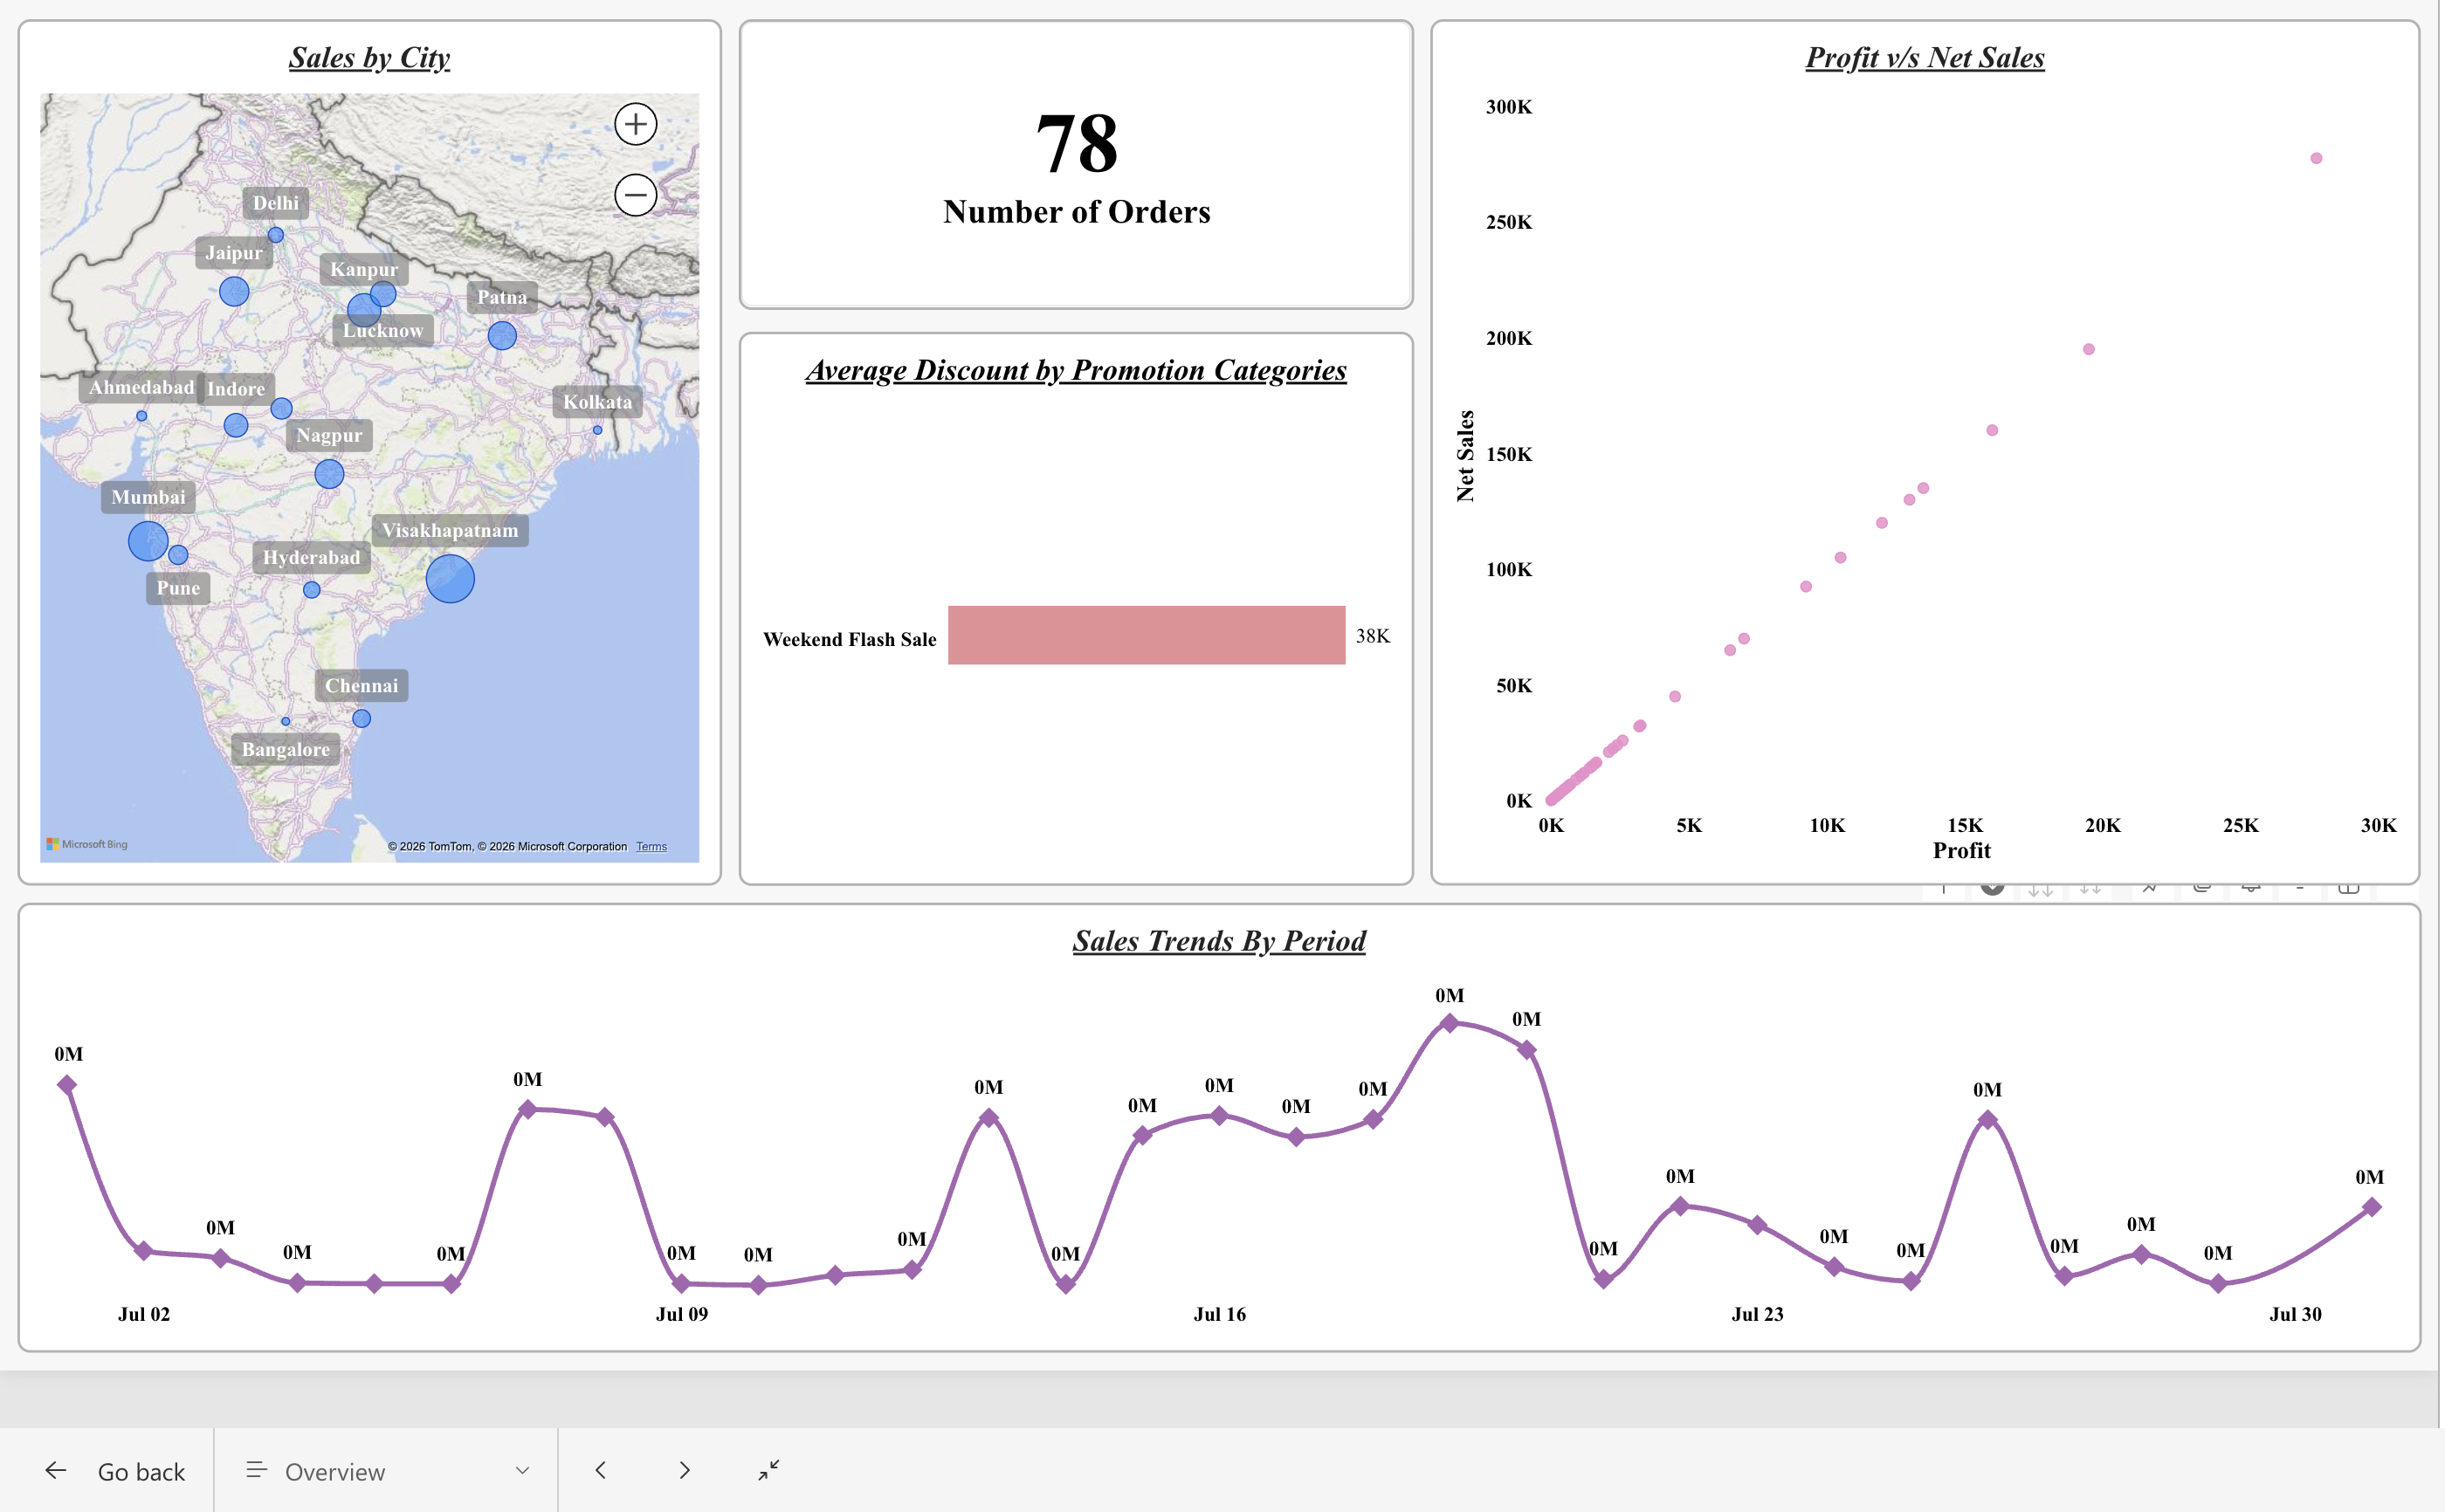

The dashboard page shown, as its layout file describes it:
{"tool":"powerbi","page":{"name":"Overview","canvas":[1920,1080],"ordinal":1},"visuals":[{"type":"lineChart","title":"Sales Trends By Period","fields":{"Category":["DateTable.Date.Variation.Date Hierarchy.Year","DateTable.Date.Variation.Date Hierarchy.Quarter","DateTable.Date.Variation.Date Hierarchy.Month","DateTable.Date.Variation.Date Hierarchy.Day"],"Y":["Sum(Fact Table.Net Sales)"]},"box":[13.3,711.2,1893.3,354.6],"z":0},{"type":"scatterChart","title":"Profit v/s Net Sales","fields":{"X":["Fact Table.Profit"],"Y":["Fact Table.Net Sales"]},"box":[1126.8,15.3,779.8,682.6],"z":1000},{"type":"barChart","title":"Average Discount by Promotion Categories","fields":{"Category":["Dim Promotion.Promotion Name"],"Y":["Avg(Fact Table.Discount Value)"]},"box":[581.5,261.2,532,436.6],"z":2000},{"type":"map","title":"Sales by City","fields":{"Category":["Dim Customers.City"],"Size":["Sum(Fact Table.Net Sales)"]},"box":[13.3,15.3,554.8,682.6],"z":3000},{"type":"cardVisual","fields":{"Data":["Count(Fact Table.Order ID)"]},"box":[581.5,15.3,532,228.8],"z":4000}]}

Visuals, with their boxes on the page's 1920x1080 design canvas (x1, y1, x2, y2). These are canvas units, not pixel positions in the 2445x1512 screenshot, which may show the page scaled, cropped or inside an application window:
"Sales Trends By Period" lineChart: {"left": 13, "top": 711, "right": 1907, "bottom": 1066}
"Profit v/s Net Sales" scatterChart: {"left": 1127, "top": 15, "right": 1907, "bottom": 698}
"Average Discount by Promotion Categories" barChart: {"left": 582, "top": 261, "right": 1114, "bottom": 698}
"Sales by City" map: {"left": 13, "top": 15, "right": 568, "bottom": 698}
cardVisual - Count(Fact Table.Order ID): {"left": 582, "top": 15, "right": 1114, "bottom": 244}
